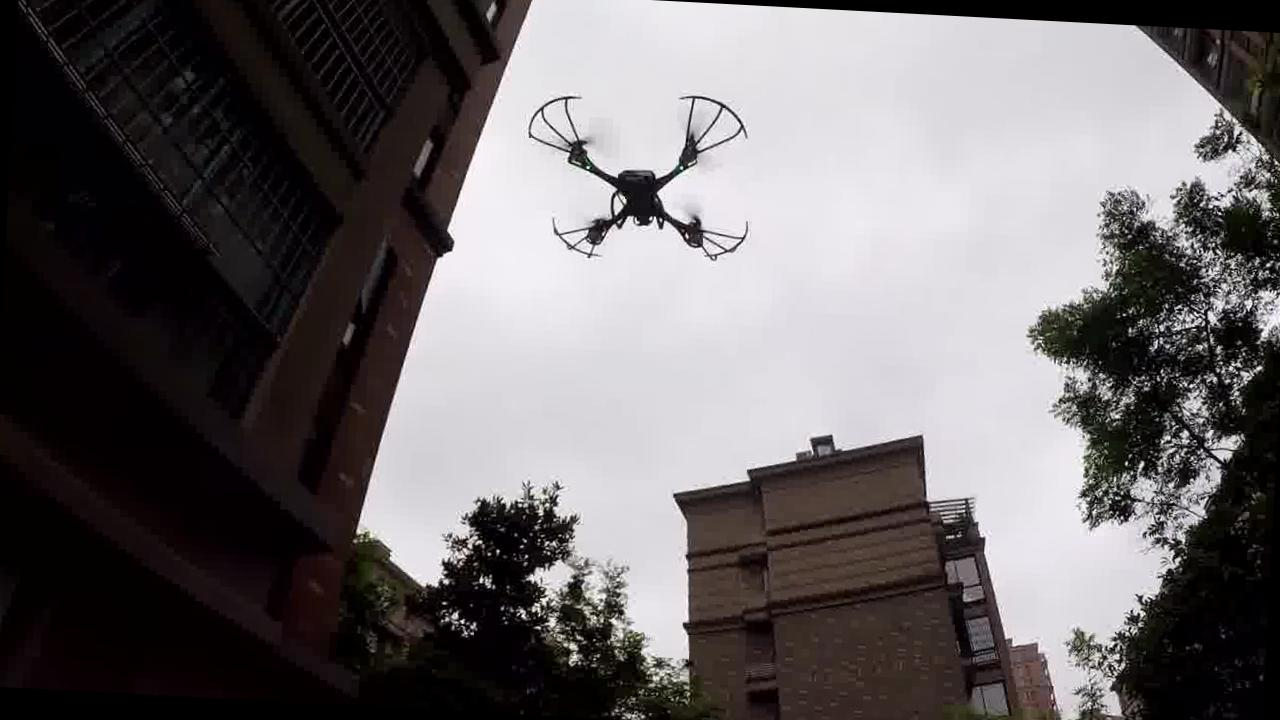drone: (529, 77, 753, 276)
